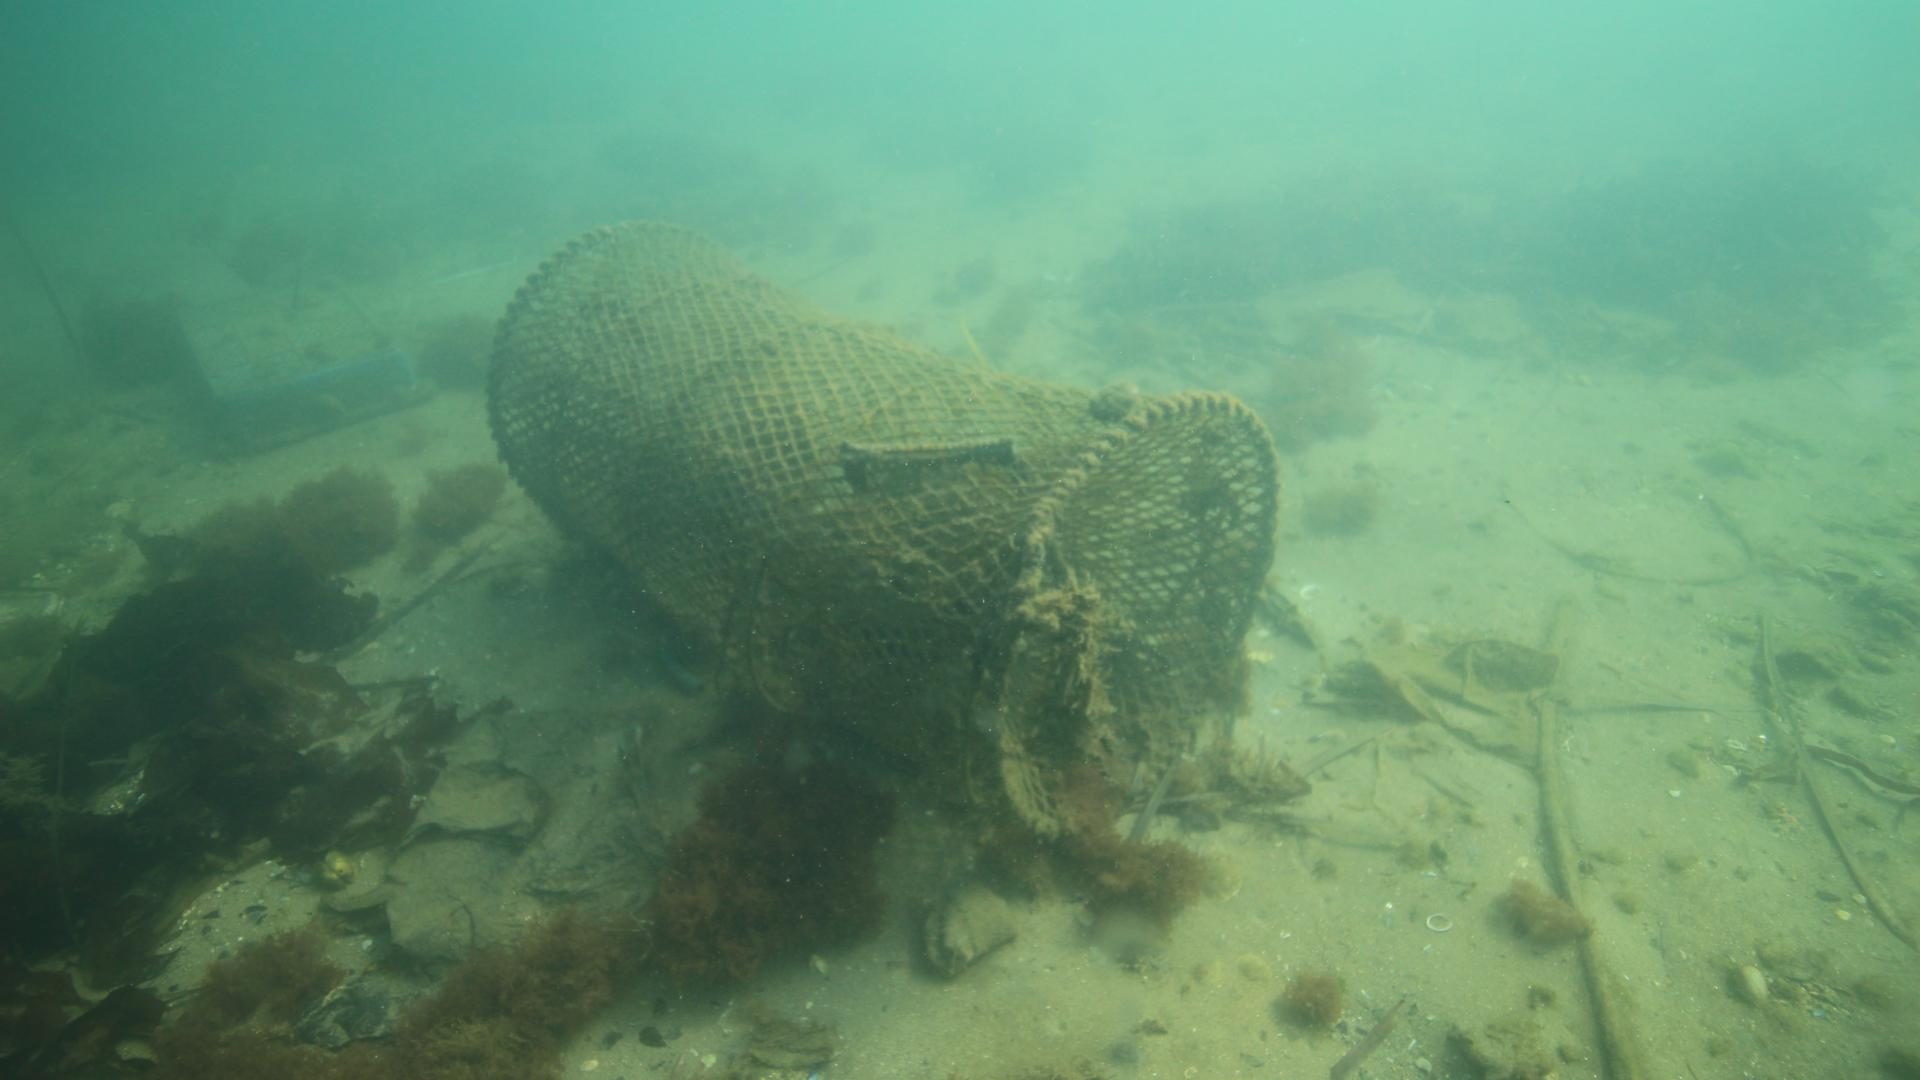spring fish trap: (479, 214, 1283, 858)
